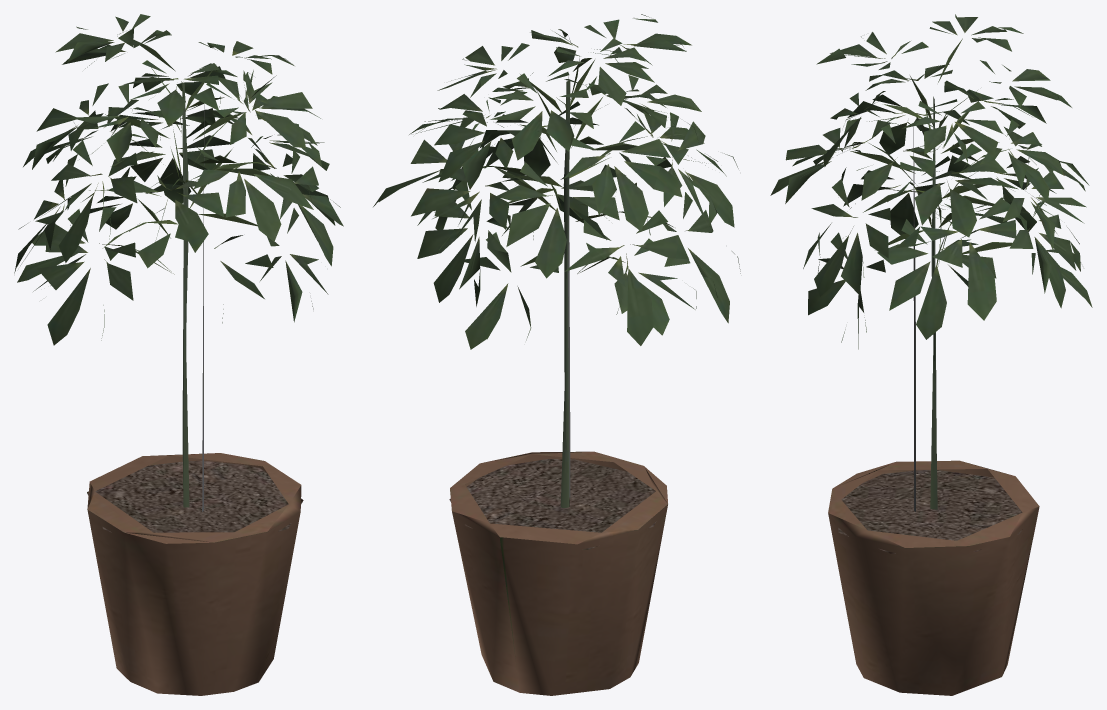
File: Plant0007.obj
3 renders of one model, left to right at view 1: azimuth 30°, elevation 25°; view 2: azimuth 150°, elevation 25°; view 3: azimuth 270°, elevation 25°, orthographic. The views are drawn at different scales.
Bounding box in the file's own units: 0.747 × 1.44 × 0.686.
1 material, 1 textured.
